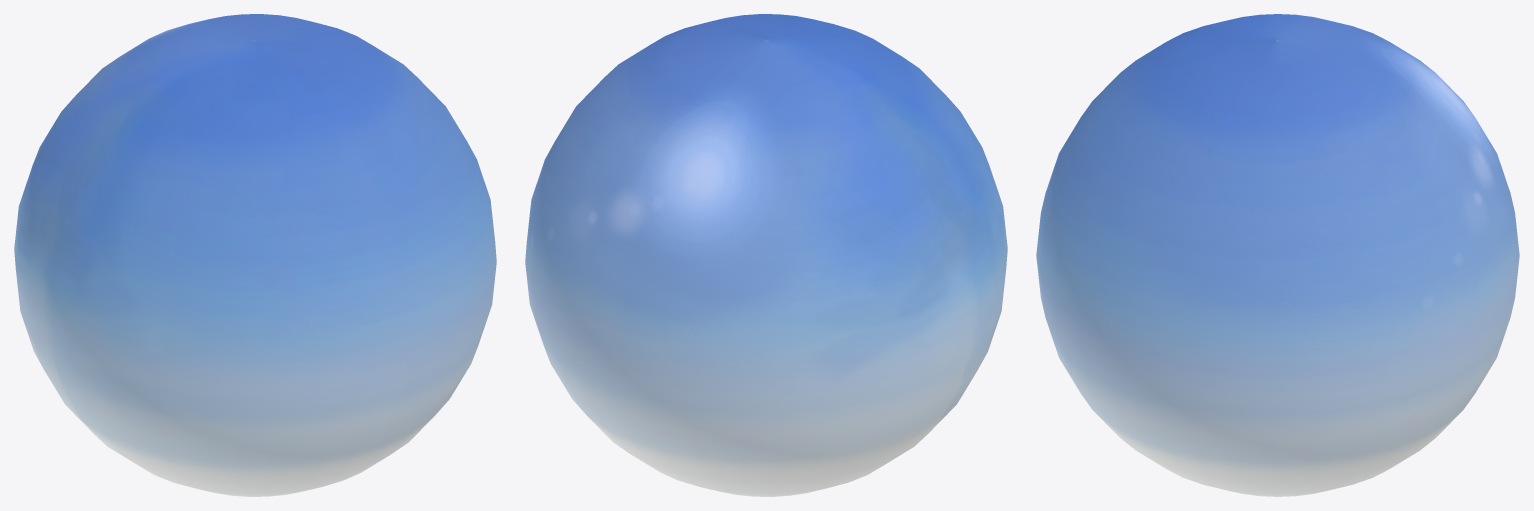
Rendered from skybox1.glb.
3 renders of one model, left to right at view 1: azimuth 30°, elevation 25°; view 2: azimuth 150°, elevation 25°; view 3: azimuth 270°, elevation 25°, orthographic.
Visible parts, largest first — view 1: Sphere; view 2: Sphere; view 3: Sphere.
Boxes of the visible parts, box(x1,y1,x2,y2) form: Sphere: box(14, 14, 496, 496); Sphere: box(525, 14, 1007, 496); Sphere: box(1036, 14, 1519, 496).
Bounding box in the file's own units: 2 × 1.96 × 2.
Materials: 1 (1 with a texture image).
